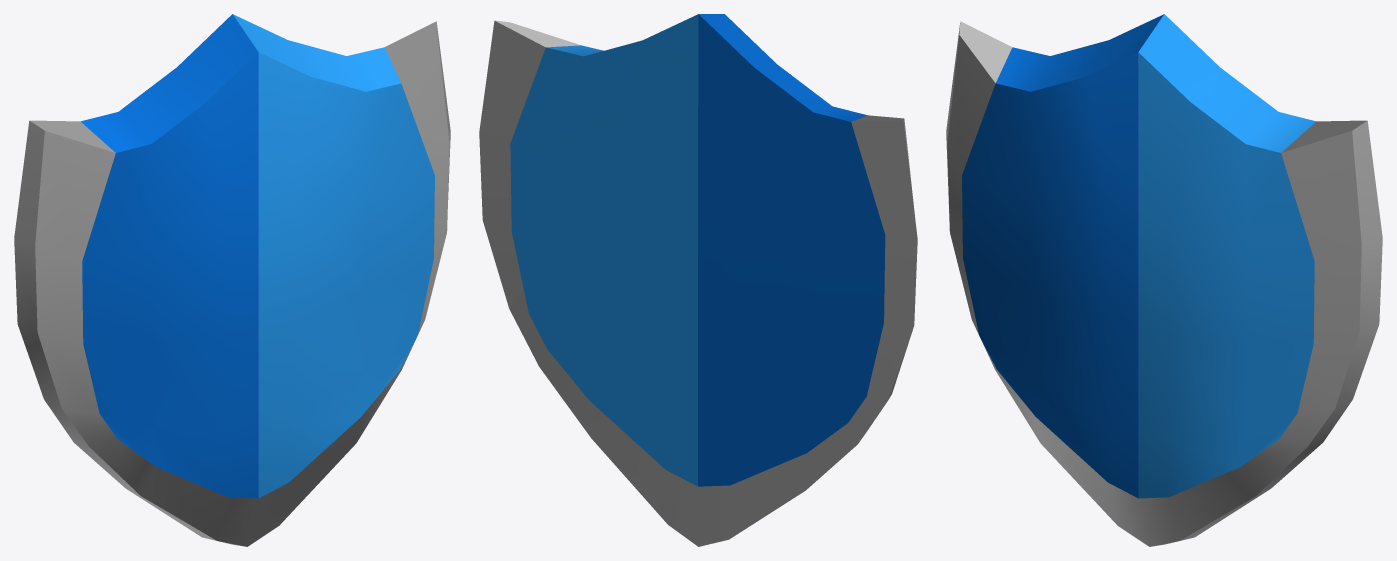
The model's file is Shield.fbx.
3 views of the same model, side by side, from view 1: azimuth 30°, elevation 25°; view 2: azimuth 150°, elevation 25°; view 3: azimuth 330°, elevation 25° (orthographic).
Parts seen in each view (by area): view 1: polySurface391; view 2: polySurface391; view 3: polySurface391.
Boxes of the visible parts, <box> form: polySurface391: <box>14,14,450,546</box>; polySurface391: <box>479,14,917,546</box>; polySurface391: <box>946,14,1382,546</box>.
Bounding box in the file's own units: 33.71 × 39.15 × 3.57.
